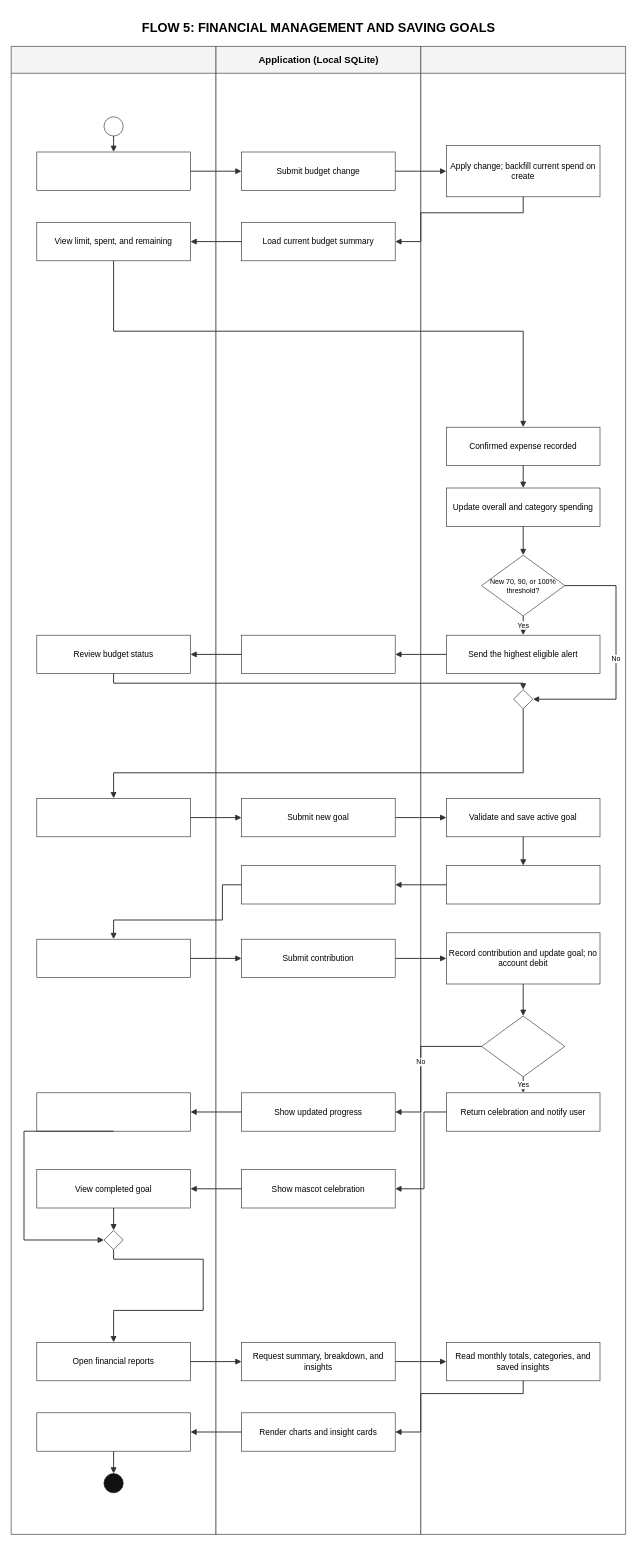
The diagram is 637 pixels wide and 1546 high, and some of its shapes have lost their labels. The shapes that lost their labels are listed below. From the top down, each one's box as (x1, y1, x2, y2) in pixels, then its label:
(36, 151, 190, 190): Create, change, or remove a monthly budget
(241, 635, 395, 674): Show budget alert
(11, 46, 216, 1534): End-User
(420, 46, 626, 1534): Back-End
(36, 798, 190, 837): Set goal name, target, and optional deadline
(241, 865, 395, 904): Show required pace and feasibility if available
(446, 865, 600, 904): Calculate progress and feasibility on request
(36, 939, 190, 978): Contribute to the goal
(481, 1015, 565, 1077): Goal completed?
(36, 1092, 190, 1131): Review goal progress
(36, 1412, 190, 1451): Review financial activity
